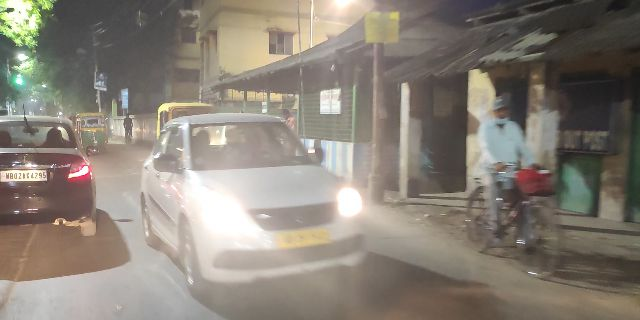Car: (139, 112, 368, 278), (452, 93, 568, 277), (6, 114, 100, 234)
